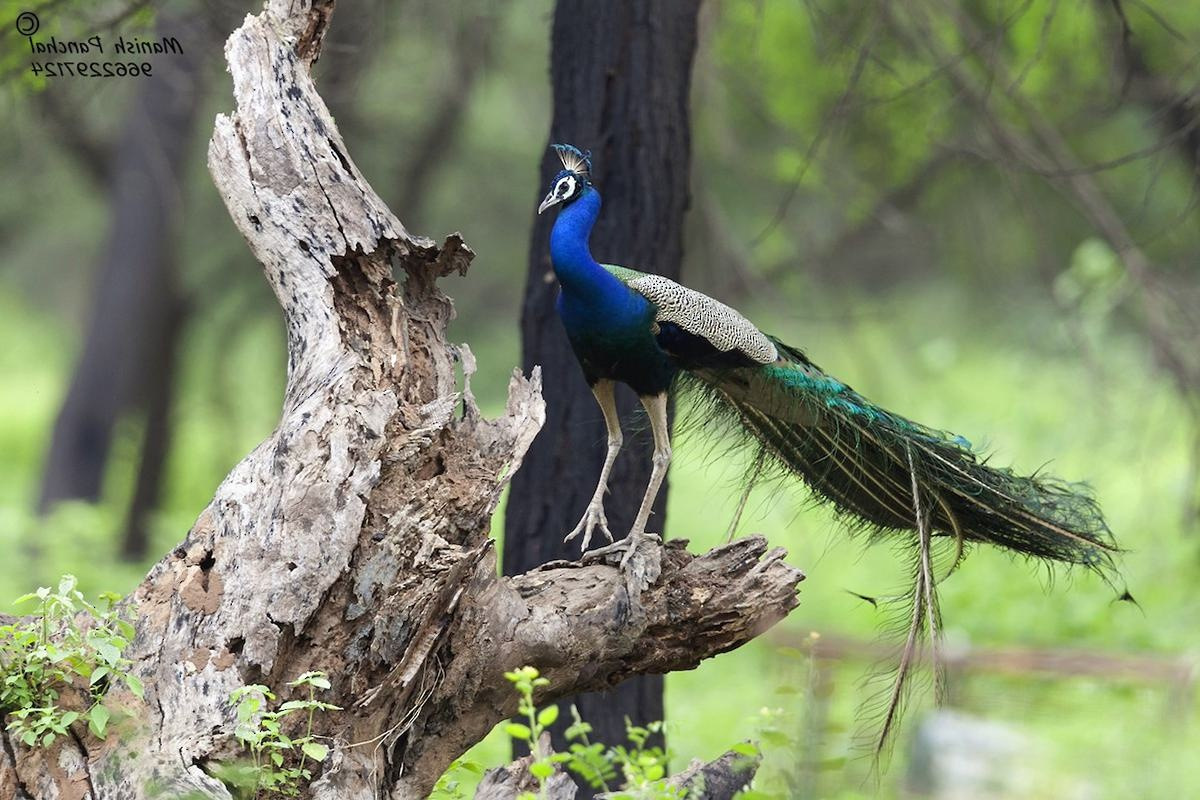peacock: (500, 141, 1078, 587)
